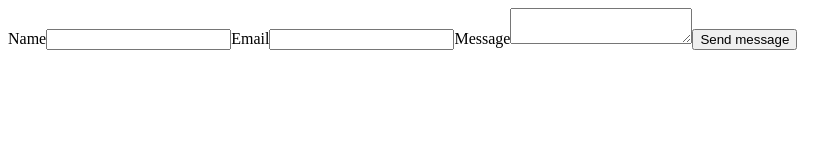
Test: ContactForm › surfaces a server field error without crashing
The image size is (814, 160).
In the field labelled "Name": [139, 40] box left=46, top=29, right=231, bottom=50, type "Ada"
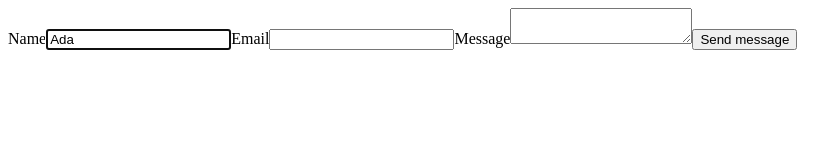
In the field labelled "Email": [362, 40] box left=269, top=29, right=454, bottom=50, type "ada@example.com"
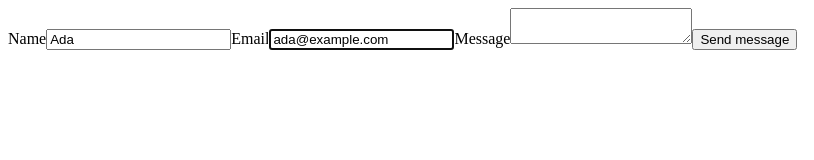
In the text box labelled "Message": [601, 26] box left=510, top=8, right=692, bottom=44, type "Hello"
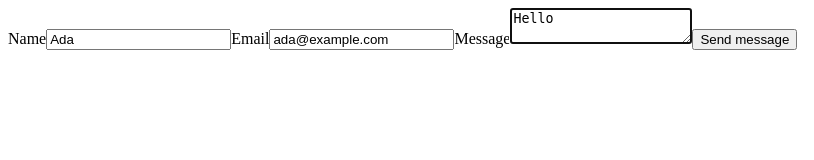
Click the button "Send message": [745, 40] box left=692, top=29, right=797, bottom=50
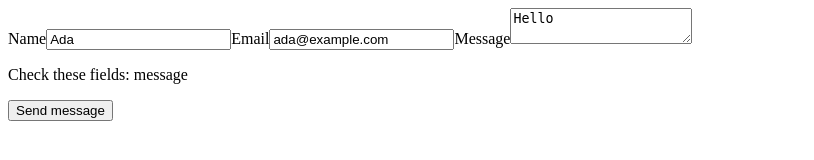
Result: the message shows "message" at left=8, top=66, right=188, bottom=83
